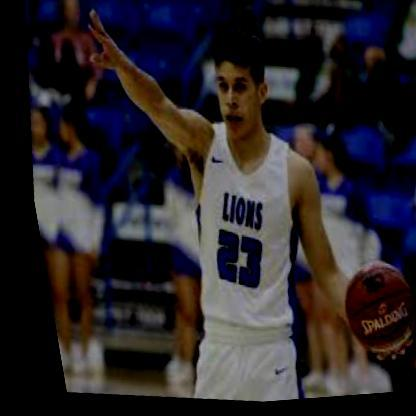basketball: (323, 258, 415, 366)
